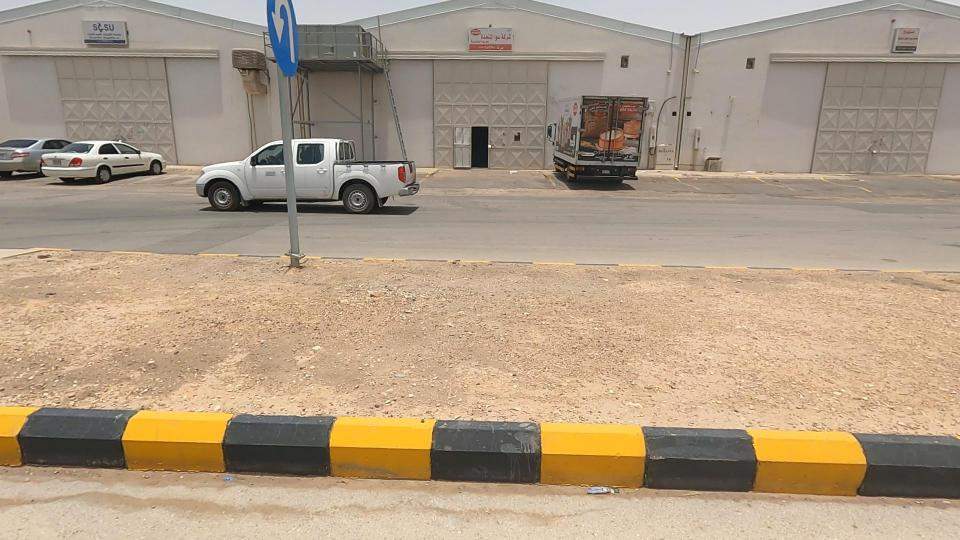CLUTTER_SIDEWALK: (249, 188, 960, 471), (0, 138, 562, 481)
